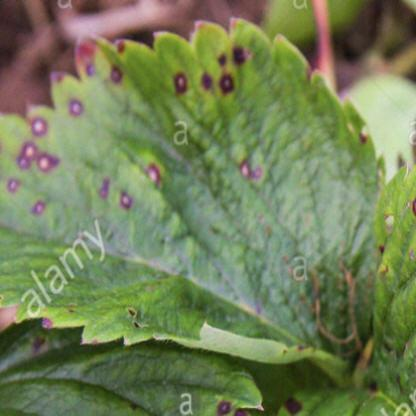Strawberry_Leaf_Spot: (0, 16, 388, 389), (0, 318, 265, 415), (274, 358, 415, 416)
